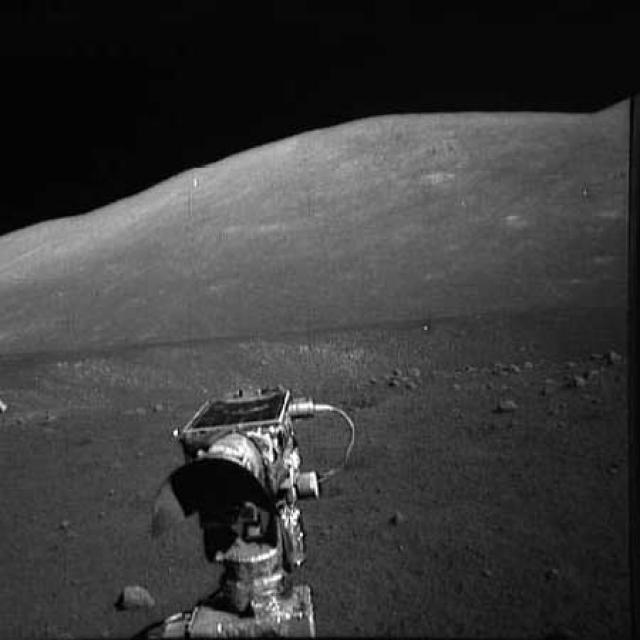artifact: (152, 371, 372, 640)
rock: (116, 568, 150, 615), (492, 388, 520, 415), (567, 370, 599, 393)
